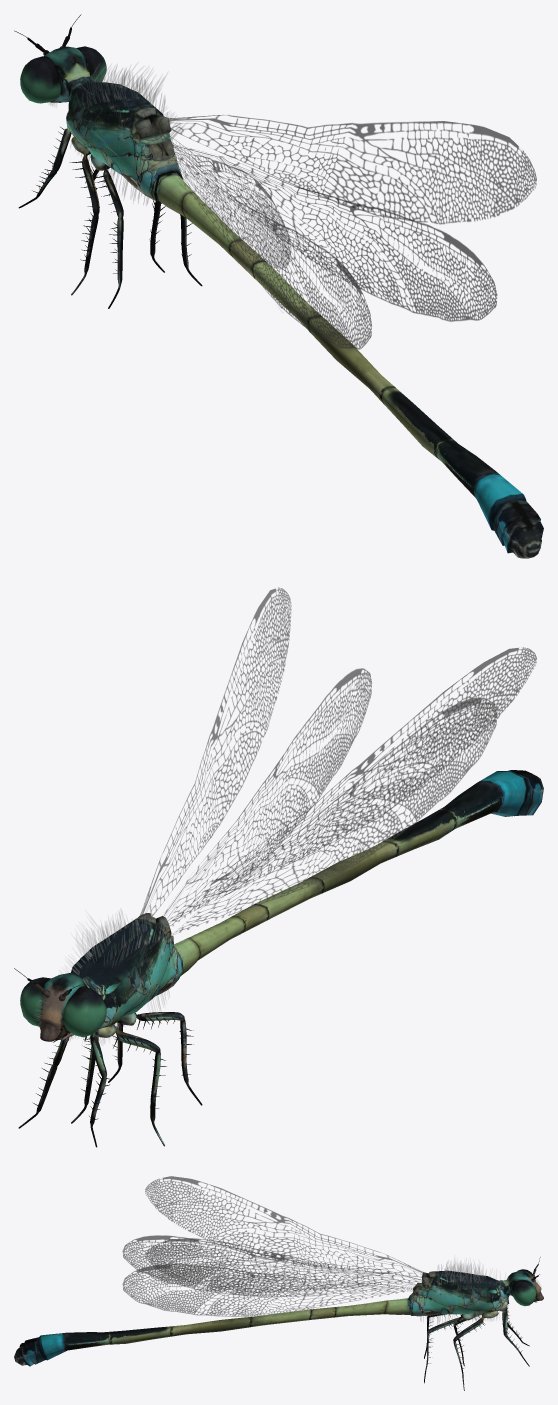
Rendered from dragonfly.glb.
The picture shows the model from 3 angles, top to bottom: view 1: azimuth 30°, elevation 25°; view 2: azimuth 150°, elevation 25°; view 3: azimuth 270°, elevation 25°; orthographic projection. The views are drawn at different scales.
Parts seen in each view (by area): view 1: Plane.001_3, Cube_1, Plane.003_5, Plane.004_6, Sphere_2; view 2: Plane.001_3, Cube_1, Plane.003_5, Sphere_2, Plane.004_6; view 3: Plane.001_3, Cube_1, Plane.003_5, Plane.004_6, Sphere_2.
Boxes of the visible parts, bbox=[...] form: Plane.001_3: bbox=[141, 115, 536, 349]; Cube_1: bbox=[44, 46, 543, 558]; Plane.003_5: bbox=[18, 112, 202, 308]; Plane.004_6: bbox=[49, 63, 186, 205]; Sphere_2: bbox=[20, 46, 106, 103]; Plane.001_3: bbox=[140, 587, 536, 935]; Cube_1: bbox=[39, 770, 543, 1041]; Plane.003_5: bbox=[18, 1012, 202, 1147]; Sphere_2: bbox=[20, 977, 106, 1037]; Plane.004_6: bbox=[36, 908, 181, 1045]; Plane.001_3: bbox=[122, 1176, 424, 1318]; Cube_1: bbox=[14, 1270, 543, 1366]; Plane.003_5: bbox=[424, 1301, 536, 1390]; Plane.004_6: bbox=[420, 1257, 540, 1324]; Sphere_2: bbox=[512, 1269, 536, 1306].
Size of the model in its own units: 2.34 by 2.84 by 8.
3 materials, 3 textured.
